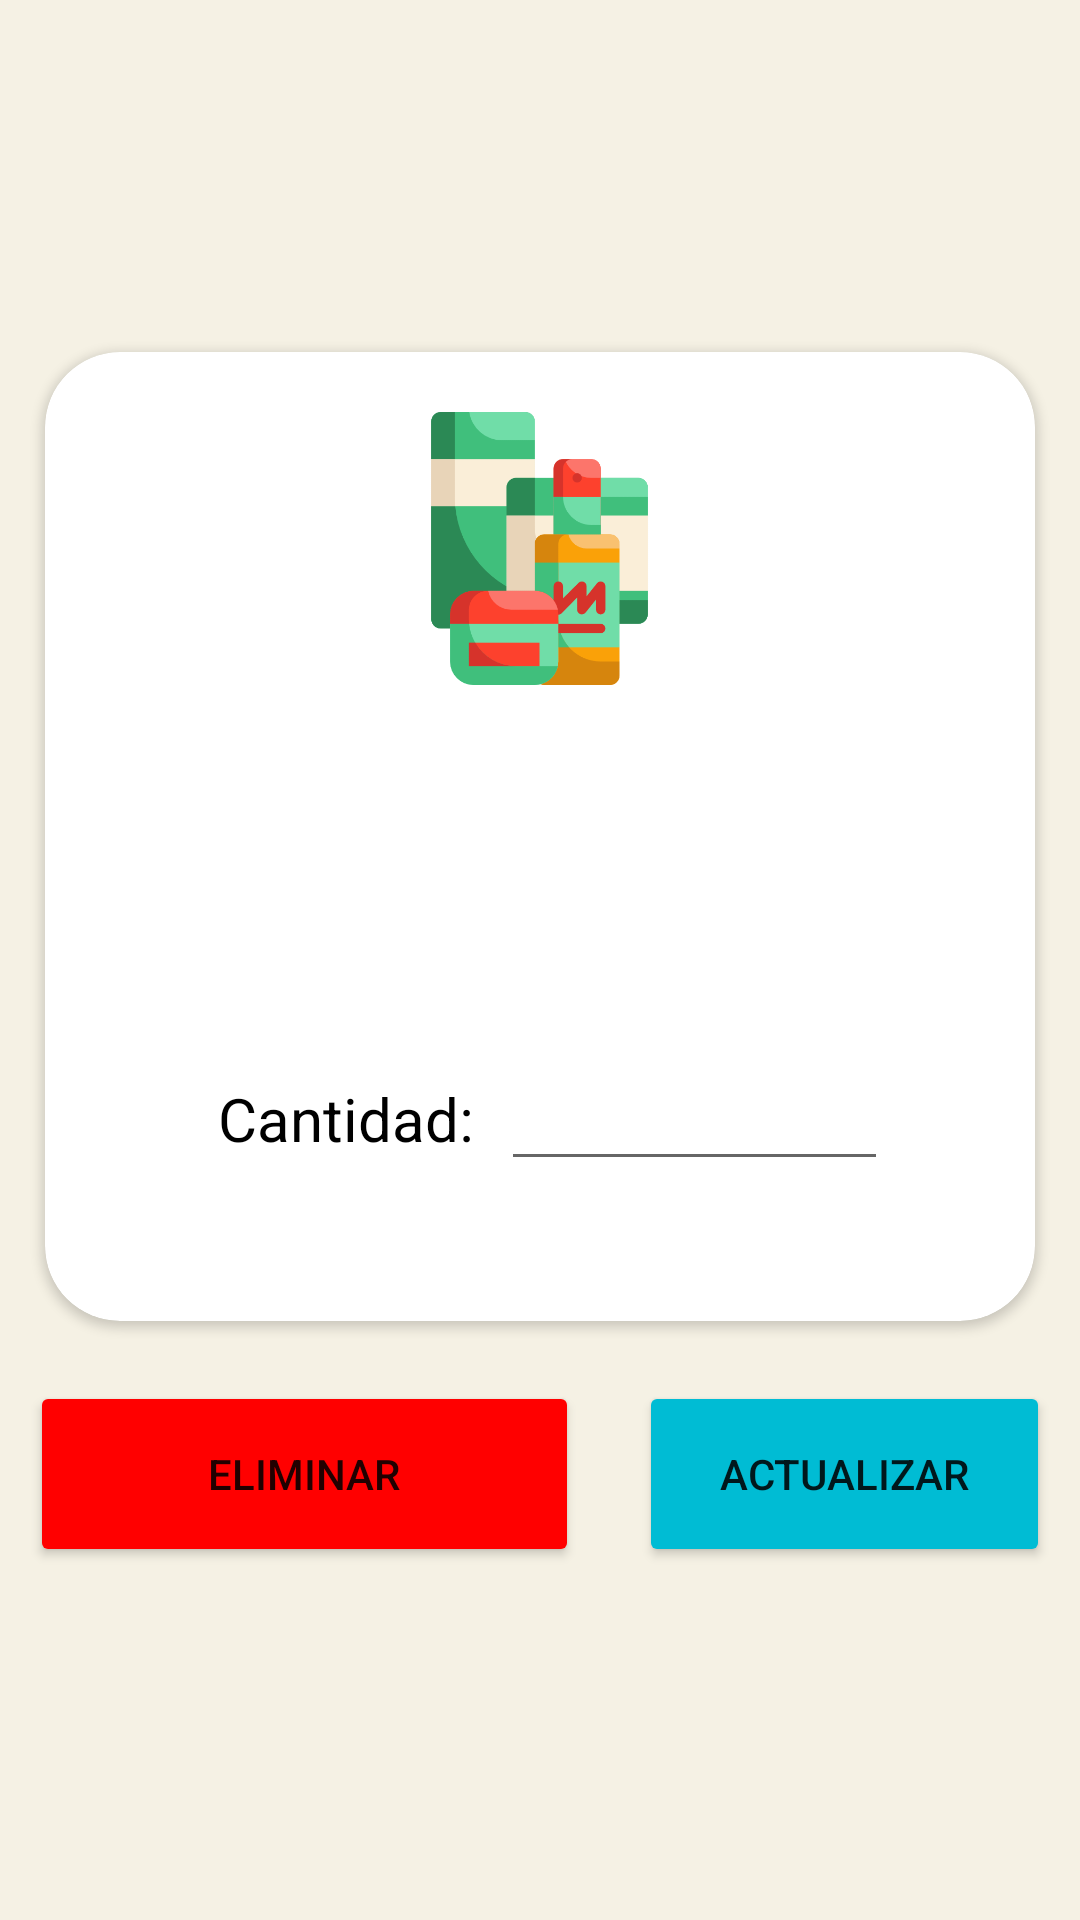

Icons on this 1080px×1920px Android screen, each with its box as [x1, y1, x2, y2]:
prod: [431, 412, 648, 685]
